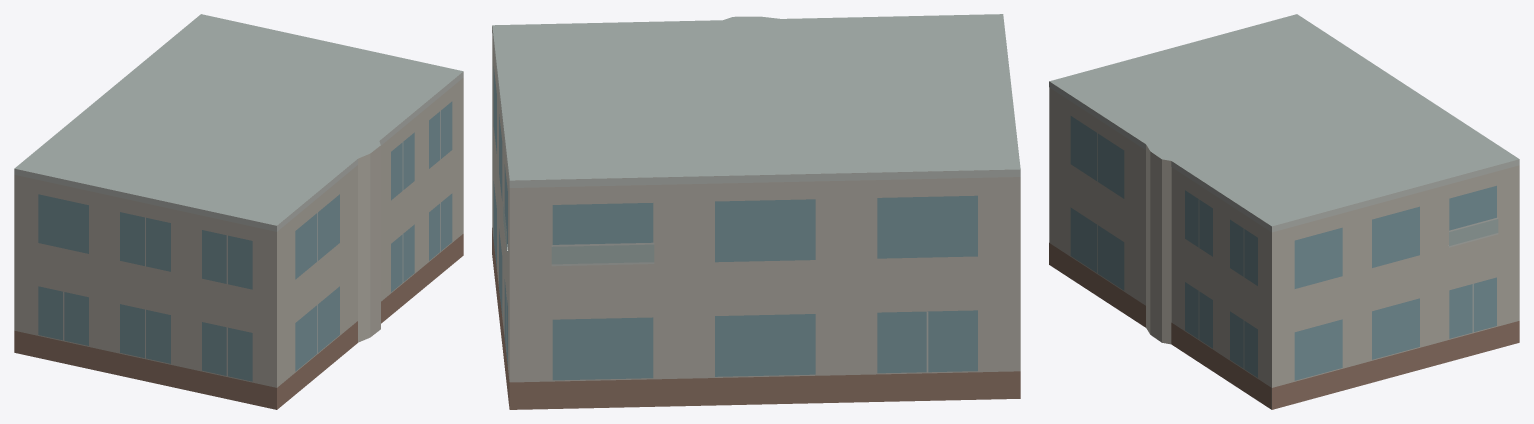
The model's file is survey-upis-32925655.glb.
3 views of the same model, side by side, from view 1: azimuth 30°, elevation 25°; view 2: azimuth 150°, elevation 25°; view 3: azimuth 270°, elevation 25° (orthographic). The views are drawn at different scales.
Visible parts, largest first — view 1: survey-upis-32925655.tmp; view 2: survey-upis-32925655.tmp; view 3: survey-upis-32925655.tmp.
Boxes of the visible parts, box(x1,y1,x2,y2) form: survey-upis-32925655.tmp: box(14, 14, 463, 409); survey-upis-32925655.tmp: box(492, 14, 1020, 409); survey-upis-32925655.tmp: box(1049, 14, 1519, 409).
Bounding box in the file's own units: 18.39 × 7.4 × 17.21.
